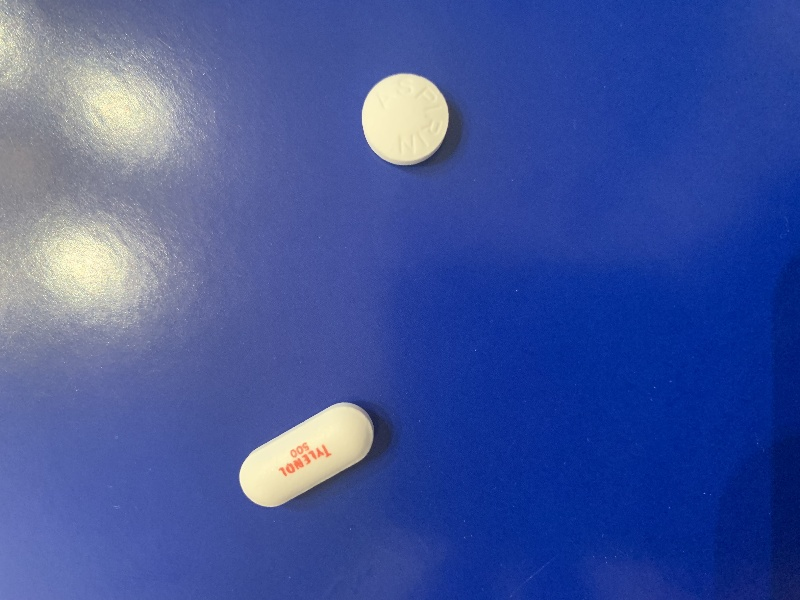Aspirin: (359, 71, 453, 172)
Tylenol: (234, 398, 380, 511)
